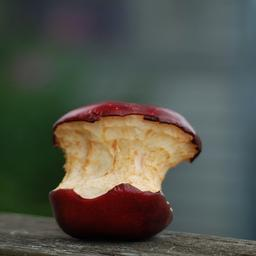apple: (51, 100, 202, 241)
